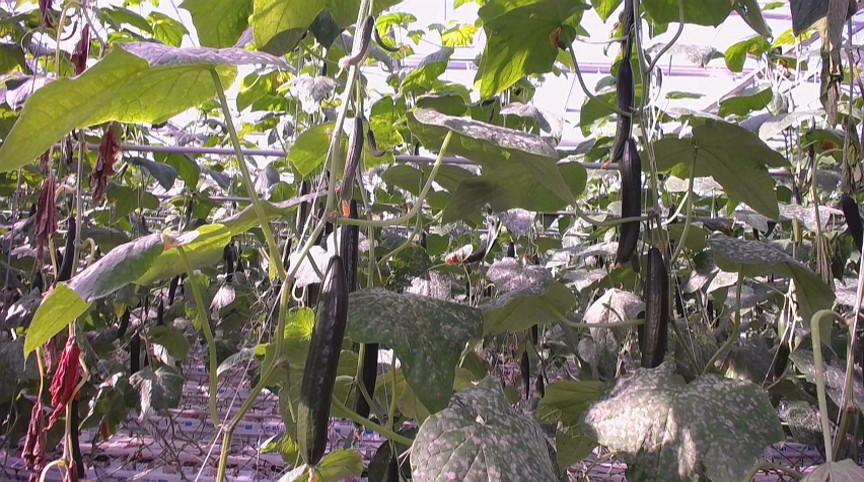cucumber: (296, 255, 348, 468), (641, 249, 672, 368), (616, 139, 643, 264), (610, 57, 634, 163), (356, 342, 382, 418), (342, 202, 361, 293), (56, 219, 76, 281)
